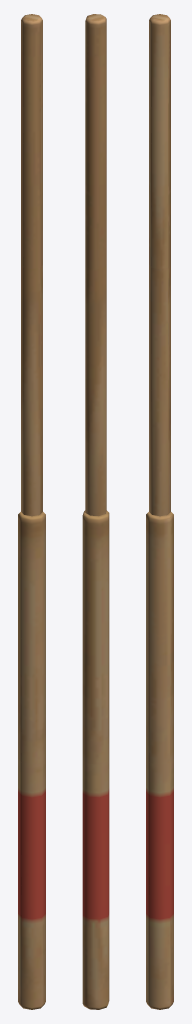
Rendered from ToolLongwoodenstick.glb.
3 views of the same model, side by side, from view 1: azimuth 90°, elevation 25°; view 2: azimuth 150°, elevation 25°; view 3: azimuth 270°, elevation 25° (orthographic).
Visible parts, largest first — view 1: Inside__mTool; view 2: Inside__mTool; view 3: Inside__mTool.
Boxes of the visible parts, x1=… form: Inside__mTool: x1=18, y1=14, x2=45, y2=1009; Inside__mTool: x1=82, y1=14, x2=109, y2=1009; Inside__mTool: x1=146, y1=14, x2=173, y2=1009.
Size of the model in its own units: 0.8167 by 32 by 0.8167.
Materials: 1 (1 with a texture image).
